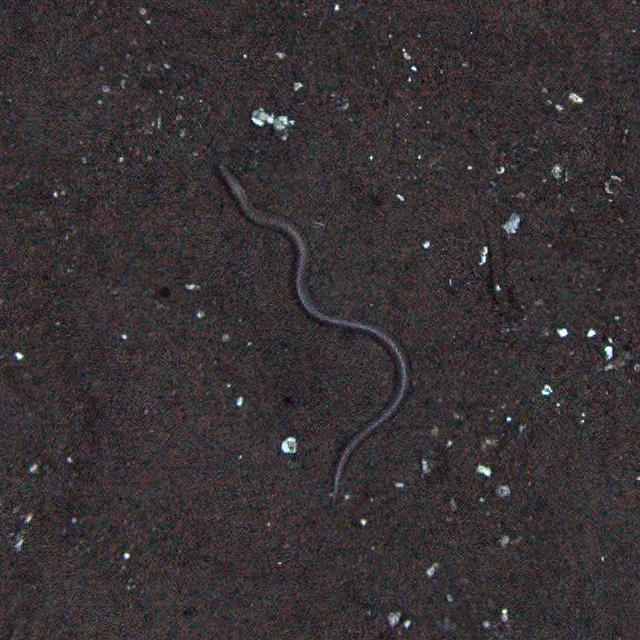eel: (219, 164, 410, 506)
